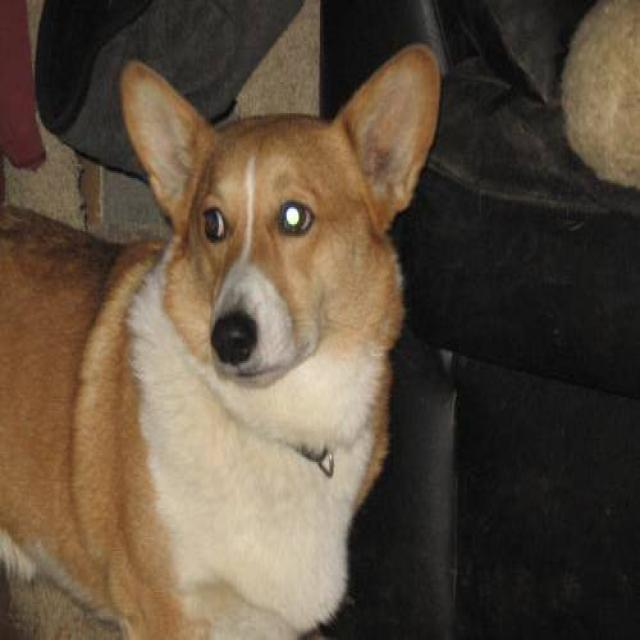dog: (0, 41, 442, 638)
